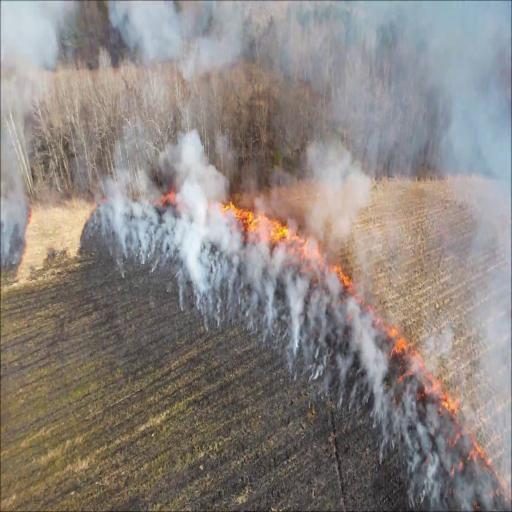fire: (241, 201, 299, 256)
smoke: (406, 0, 510, 503), (0, 0, 77, 284), (176, 133, 239, 334), (113, 0, 247, 73), (301, 133, 375, 265), (353, 308, 400, 460), (279, 251, 321, 384)
